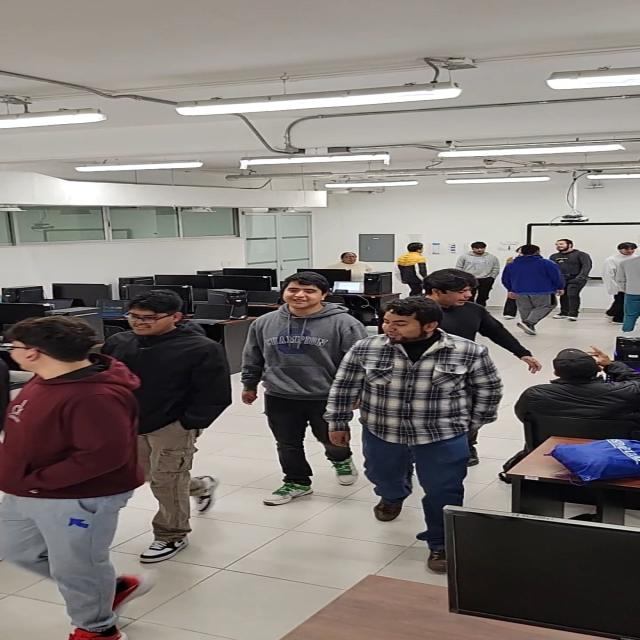Persona: (321, 296, 504, 579), (0, 313, 155, 640), (97, 293, 236, 563), (238, 271, 374, 506), (412, 269, 542, 376), (502, 244, 569, 336), (547, 239, 593, 323), (597, 244, 640, 326), (453, 242, 503, 304), (392, 240, 438, 296)
